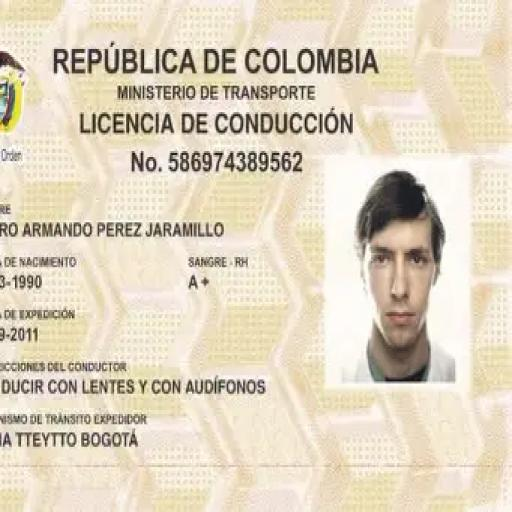colombia: (42, 39, 384, 80)
conduciones: (0, 347, 277, 395)
fechanacimiento: (0, 252, 91, 292)
foto: (344, 171, 453, 379)
ministerio de transporte: (97, 76, 331, 104)
nombre: (1, 202, 235, 240)
numerolic: (120, 140, 305, 175)
tarjeta conduccion: (0, 0, 512, 512)
titulo licencia: (71, 111, 383, 138)
